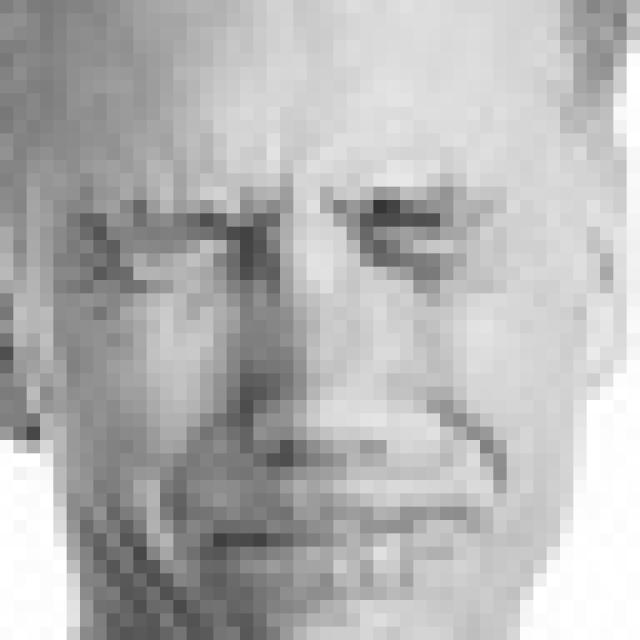disgust: (52, 131, 550, 607)
